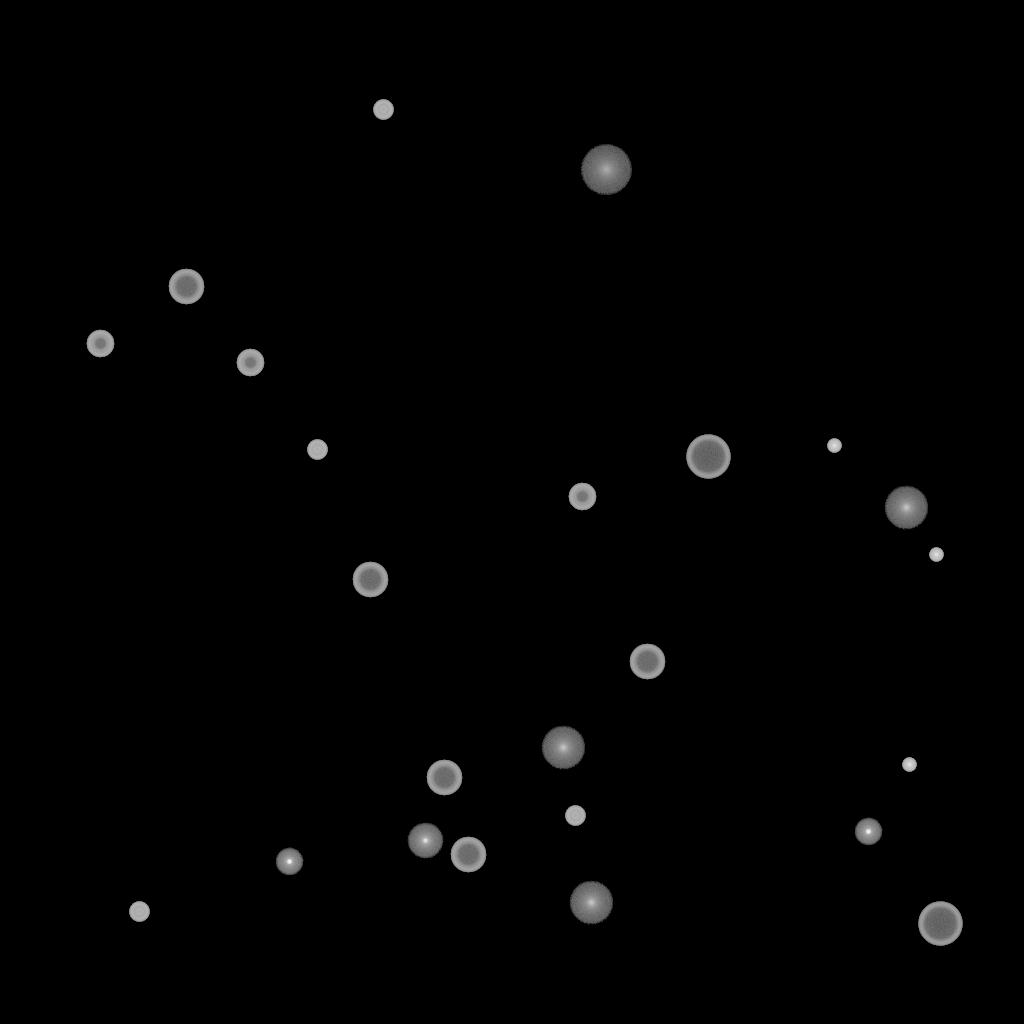depth:-10: (854, 818, 882, 846), (275, 848, 303, 876)
depth:-30: (827, 439, 841, 453), (929, 548, 943, 562), (902, 758, 916, 772)
depth:-40: (565, 806, 585, 826), (307, 440, 327, 460), (129, 902, 149, 922), (373, 100, 393, 120)
depth:-50: (568, 483, 596, 511), (86, 330, 114, 358), (236, 349, 264, 377)
depth:-60: (168, 269, 204, 305), (352, 562, 388, 598), (426, 760, 462, 796), (629, 644, 665, 680), (450, 837, 486, 873)
depth:-70: (686, 435, 730, 479), (918, 902, 962, 946)
depth:0: (407, 823, 443, 859)
depth:10: (884, 486, 928, 530), (569, 881, 613, 925), (541, 726, 585, 770)
depth:20: (580, 145, 632, 195)
